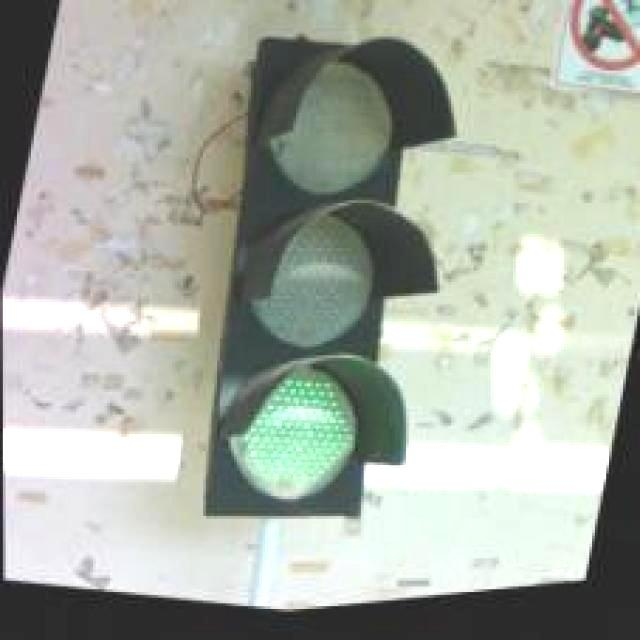Green: (158, 14, 485, 556)
